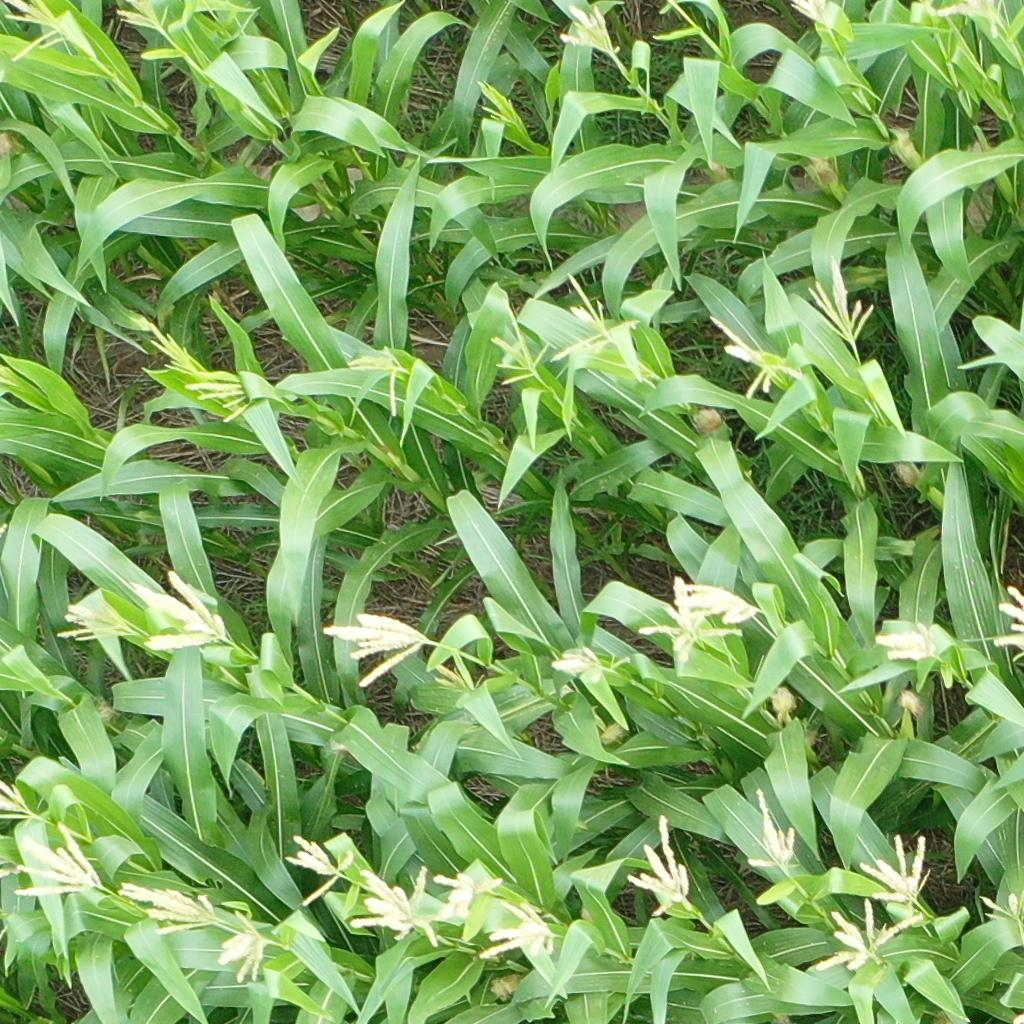Tassel: (321, 610, 440, 688), (639, 576, 745, 660), (550, 272, 644, 366), (819, 898, 925, 975), (132, 571, 232, 651), (352, 864, 444, 950), (707, 317, 803, 397), (10, 823, 109, 900), (629, 815, 696, 920), (806, 256, 876, 345), (117, 875, 218, 935), (487, 296, 551, 387), (478, 900, 565, 966), (283, 833, 355, 908), (859, 833, 933, 902), (2, 1, 82, 64), (347, 346, 414, 417), (218, 909, 274, 984), (744, 790, 797, 869), (185, 371, 257, 424), (433, 871, 507, 921), (675, 583, 765, 624), (552, 645, 632, 689), (58, 600, 139, 643), (145, 321, 200, 381), (934, 1, 1008, 40), (874, 618, 938, 662), (560, 6, 618, 54), (991, 586, 1024, 650), (433, 647, 476, 695), (477, 80, 518, 125), (116, 1, 172, 32), (976, 890, 1024, 924), (1, 779, 38, 821), (789, 1, 836, 31)
